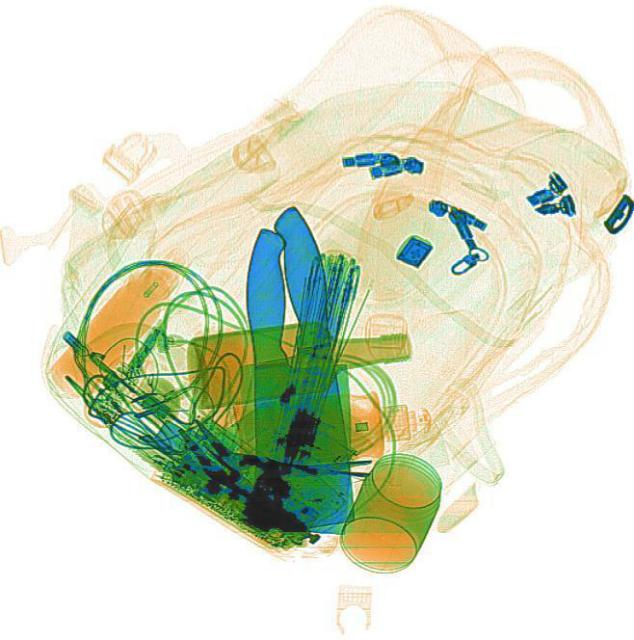Knife: (212, 200, 354, 532), (242, 228, 352, 532)
